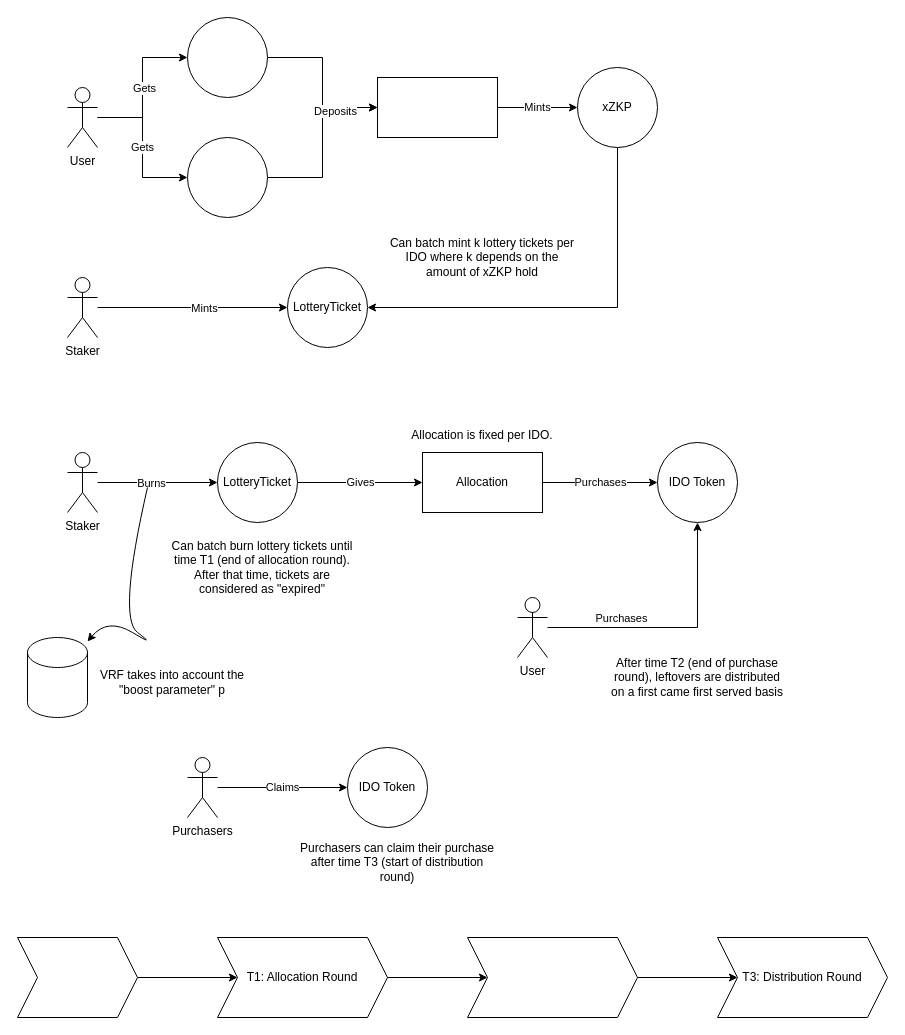
This 905x1035 diagram has some shape labels left out. Each missing label, with the centre of its shape:
"T0: Standby" goes at (x=77, y=977).
"T2: Purchase Round" goes at (x=552, y=977).
"Vault" goes at (x=437, y=107).
"VRF" goes at (x=57, y=677).
"ZKP" goes at (x=227, y=57).
"ZKP-ETH LP" goes at (x=227, y=177).
